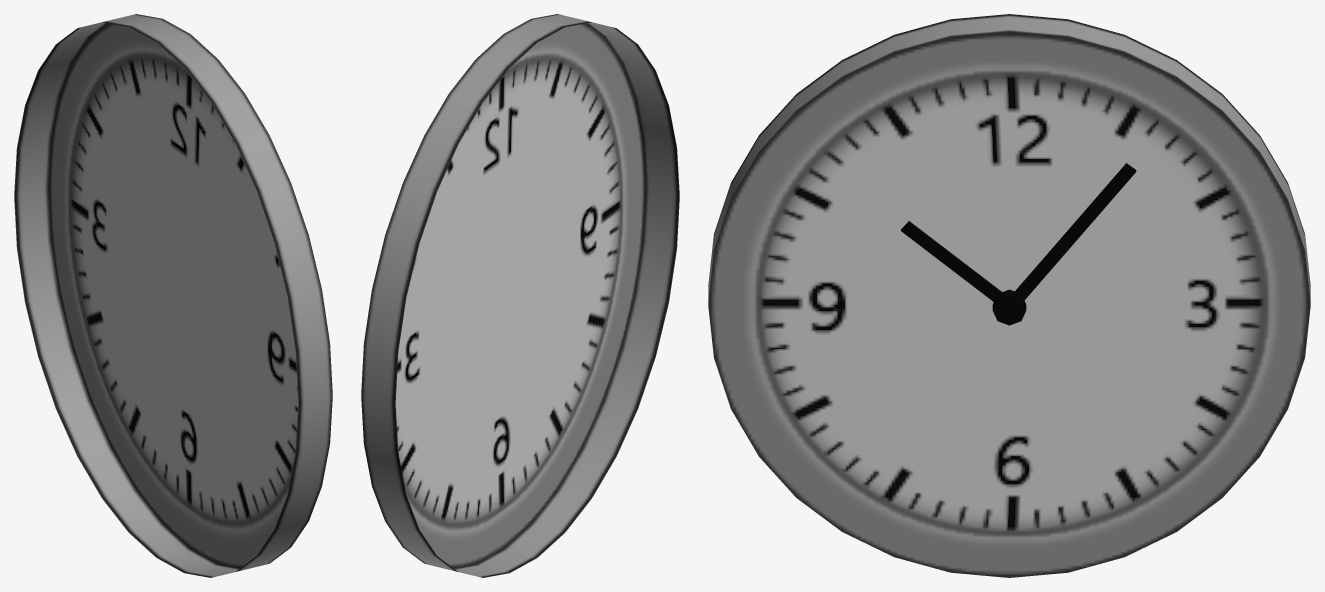
File: clock_static.fbx
The picture shows the model from 3 angles, left to right: view 1: azimuth 30°, elevation 25°; view 2: azimuth 150°, elevation 25°; view 3: azimuth 270°, elevation 25°; orthographic projection. The views are drawn at different scales.
Parts seen in each view (by area): view 1: polySurface456; view 2: polySurface456; view 3: polySurface456.
Part boxes in pixels (<box>): polySurface456: <box>14,14,332,577</box>; polySurface456: <box>361,14,679,577</box>; polySurface456: <box>708,14,1310,577</box>.
Size of the model in its own units: 0.0878 by 0.9655 by 0.9655.
